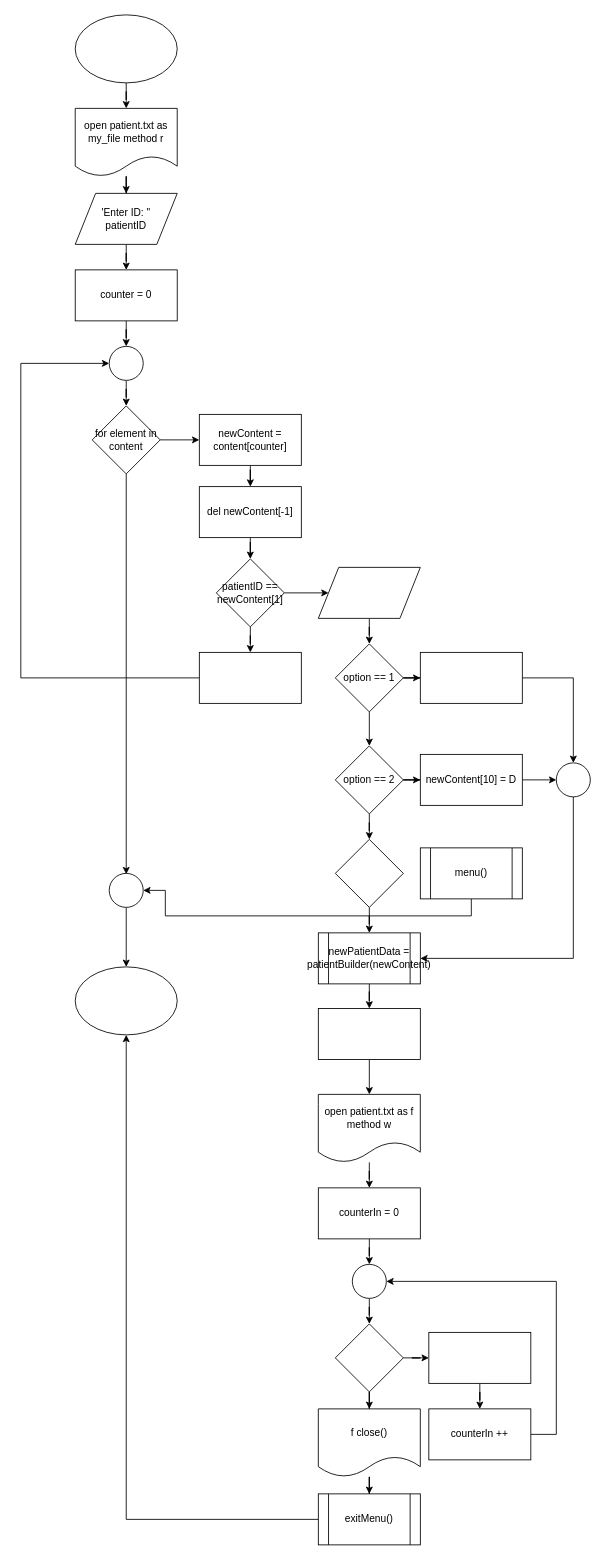
The diagram is 605 pixels wide and 1560 high, and some of its shapes have lost their labels. Here are the shapes that lost their labels. From the top down, the box of each, then its label:
(74, 14, 177, 83): Start
(317, 567, 420, 618): "Choose option" READ option
(198, 652, 301, 703): counter ++
(419, 652, 522, 703): newContent[10] = R
(334, 839, 403, 907): option == 3
(74, 966, 177, 1035): End
(317, 1008, 420, 1060): newIndex = newContent[1] - 1
(428, 1332, 531, 1383): f writelines content[counterIn]
